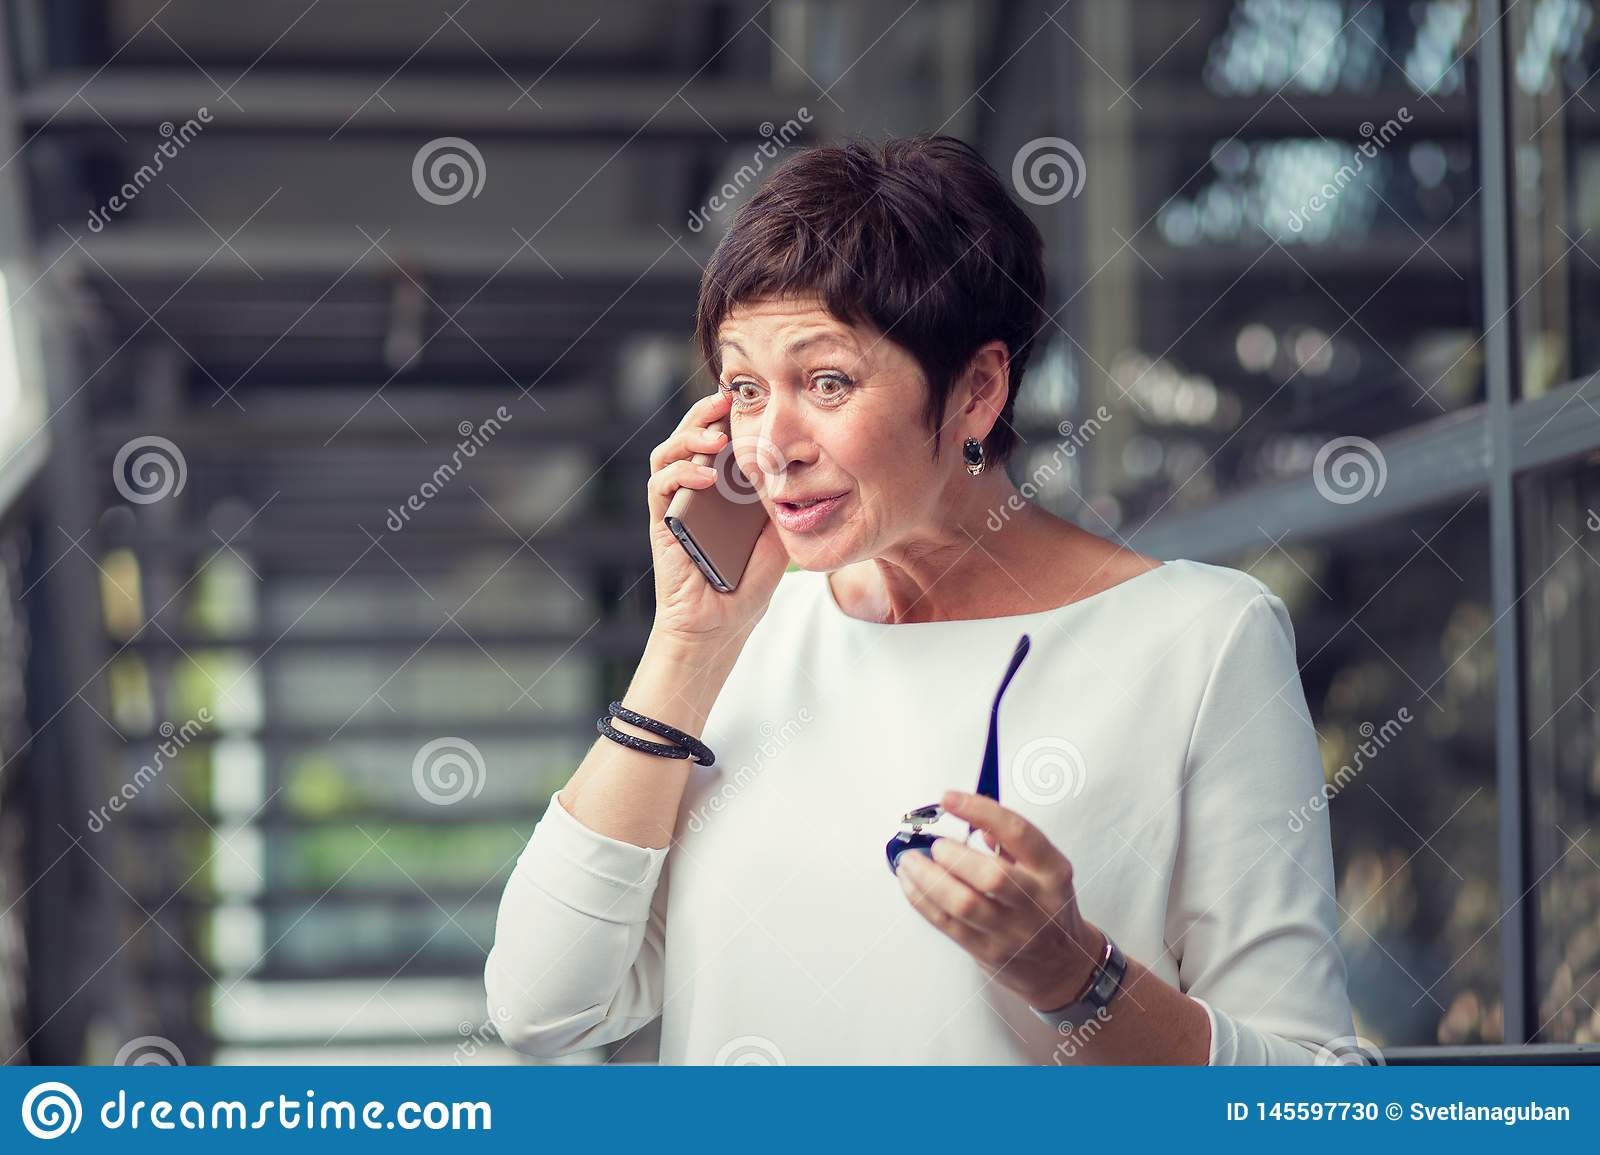phone: (667, 407, 771, 604)
talk: (635, 319, 881, 687)
